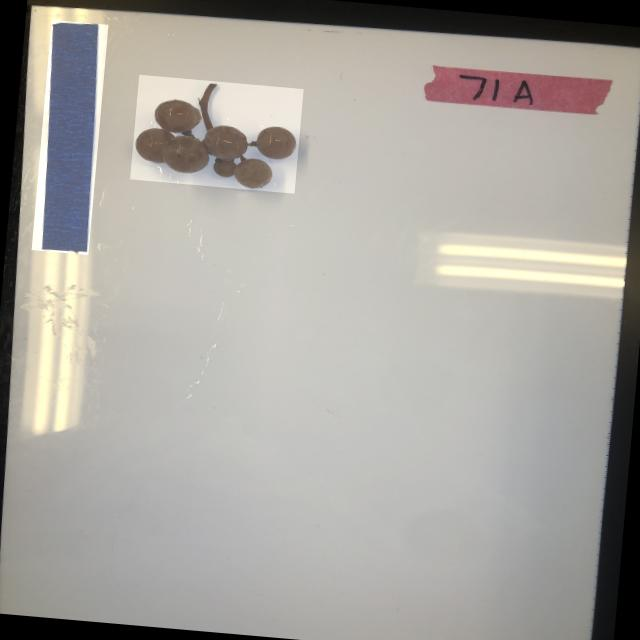grape_cluster: (130, 74, 304, 194)
index: (422, 63, 616, 117)
measure_label: (31, 19, 108, 254)
